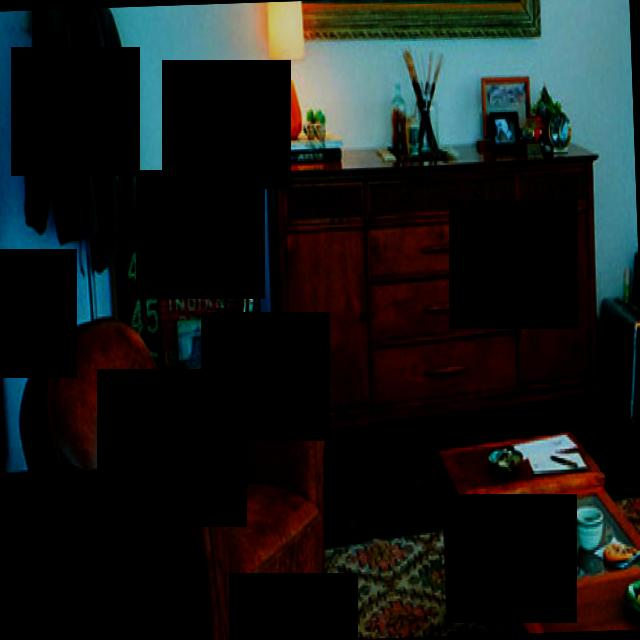vintage desk: (423, 417, 640, 636)
vintage shelf: (256, 131, 612, 454)
vintage sofa: (0, 296, 351, 640)
